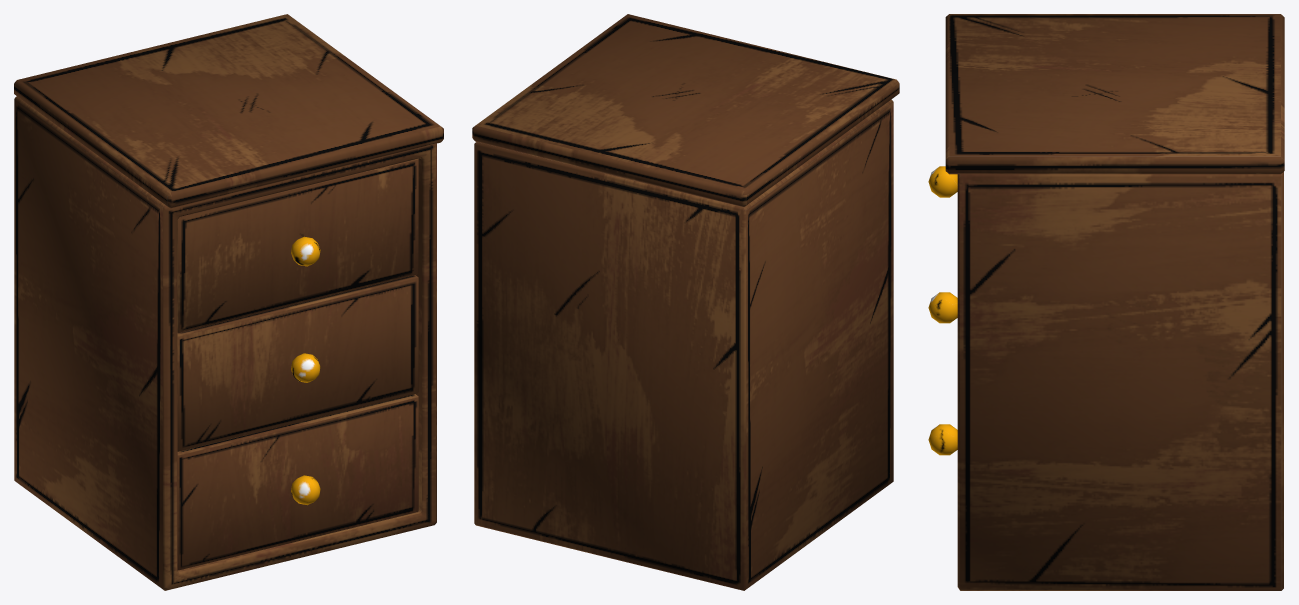
File: Drawer_B.glb
3 renders of one model, left to right at view 1: azimuth 30°, elevation 25°; view 2: azimuth 150°, elevation 25°; view 3: azimuth 270°, elevation 25°, orthographic. The views are drawn at different scales.
Parts seen in each view (by area): view 1: Drawer B, Drawer B.002, Drawer B.003, Drawer B.001; view 2: Drawer B; view 3: Drawer B, Drawer B.003, Drawer B.002, Drawer B.001.
Part boxes in pixels (left/top/right/bottom): Drawer B: left=14, top=14, right=443, bottom=590; Drawer B.002: left=177, top=275, right=418, bottom=451; Drawer B.003: left=177, top=394, right=418, bottom=570; Drawer B.001: left=177, top=158, right=418, bottom=332; Drawer B: left=472, top=14, right=899, bottom=590; Drawer B: left=945, top=14, right=1284, bottom=590; Drawer B.003: left=928, top=424, right=957, bottom=455; Drawer B.002: left=928, top=292, right=957, bottom=323; Drawer B.001: left=928, top=166, right=957, bottom=197.
Size of the model in its own units: 2.54 by 3.53 by 2.62.
1 material, 1 textured.
